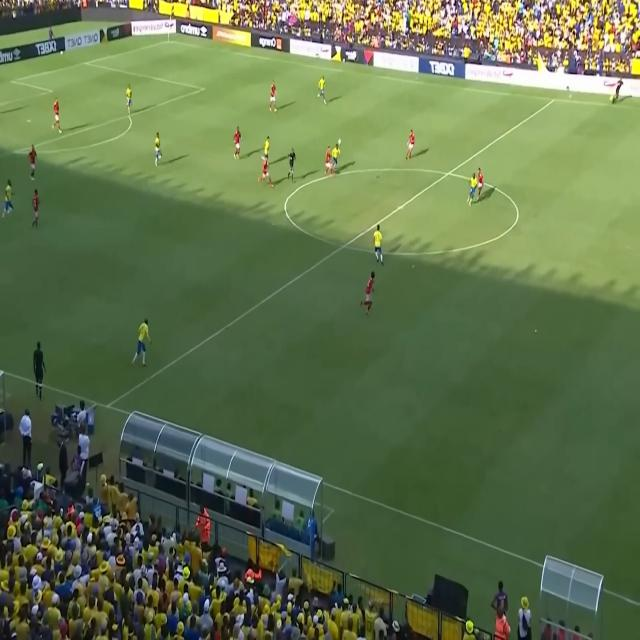Ball: (337, 137, 342, 146)
Player: (130, 317, 150, 365), (358, 268, 377, 317), (1, 177, 15, 219), (258, 156, 274, 187), (373, 222, 384, 263), (232, 125, 244, 162), (31, 186, 42, 226), (27, 144, 38, 182), (404, 129, 416, 162), (153, 129, 163, 168), (52, 97, 62, 134), (260, 135, 271, 167), (268, 78, 278, 112), (467, 172, 477, 206), (317, 73, 327, 105), (125, 82, 134, 114), (475, 166, 484, 198), (332, 145, 341, 173), (324, 145, 331, 178)
Ref: (33, 338, 45, 397), (612, 76, 624, 105), (287, 147, 296, 180)
